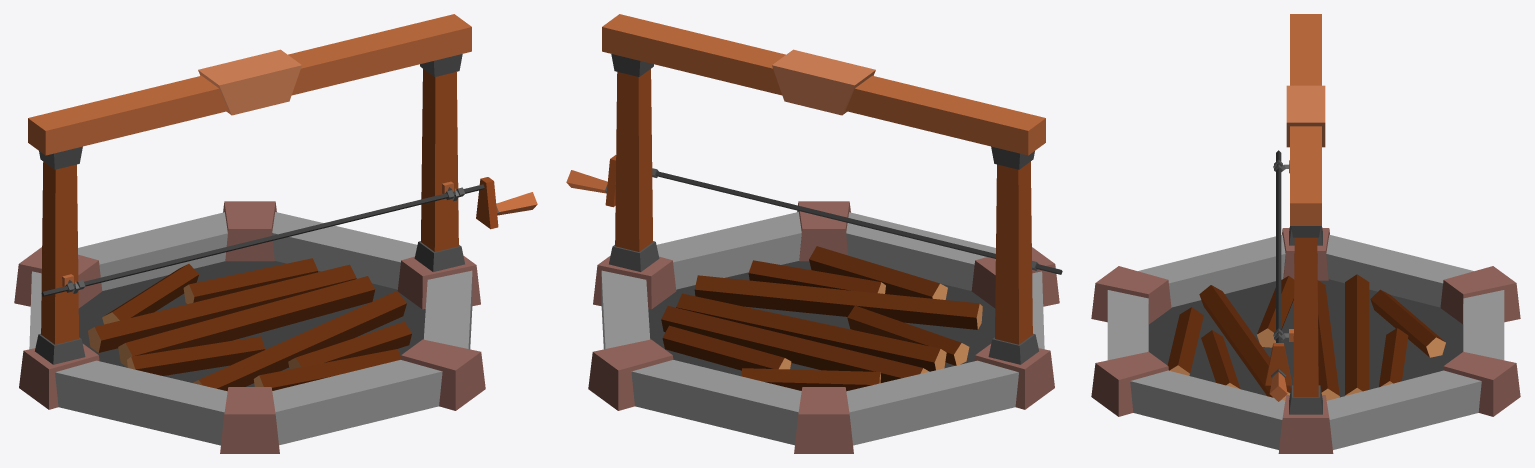
Rendered from BBQ Rack 01.fbx.
3 views of the same model, side by side, from view 1: azimuth 30°, elevation 25°; view 2: azimuth 150°, elevation 25°; view 3: azimuth 270°, elevation 25° (orthographic). The views are drawn at different scales.
Visible parts, largest first — view 1: BBQ_Rack_01; view 2: BBQ_Rack_01; view 3: BBQ_Rack_01.
Boxes of the visible parts, x1,y1,x2,y2 form: BBQ_Rack_01: (14, 14, 537, 453); BBQ_Rack_01: (566, 14, 1062, 453); BBQ_Rack_01: (1091, 14, 1520, 453).
Bounding box in the file's own units: 401 × 218 × 335.
